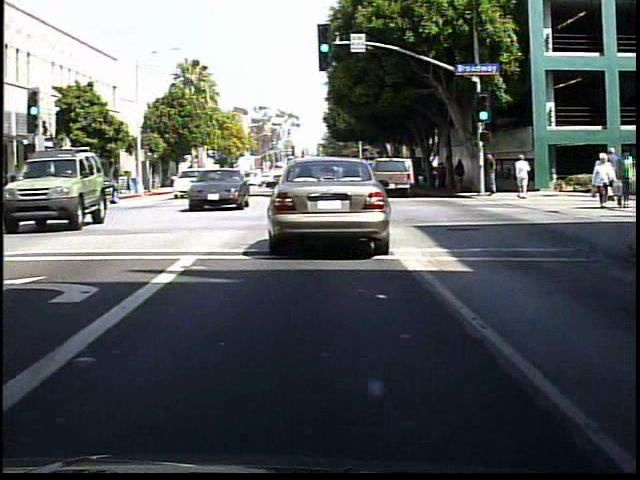person: (587, 153, 616, 210), (602, 145, 627, 206), (614, 146, 632, 211), (512, 152, 535, 202), (481, 150, 502, 204), (456, 158, 472, 193), (440, 160, 453, 193)
